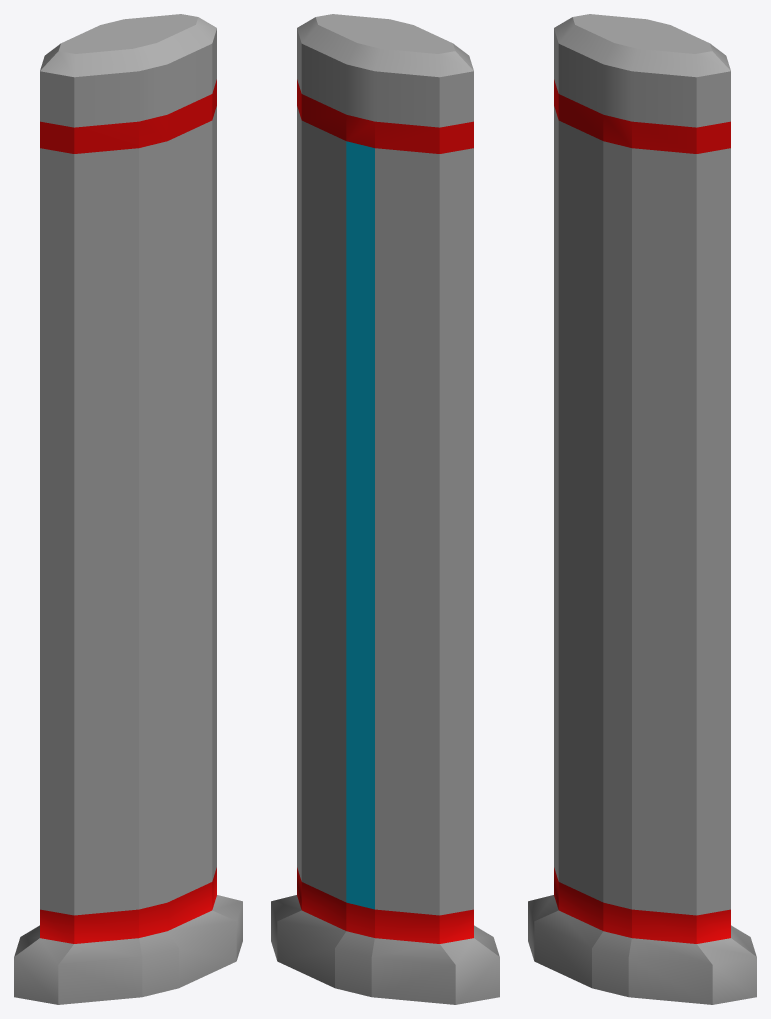
Rendered from energyPylon.fbx.
The picture shows the model from 3 angles, left to right: view 1: azimuth 30°, elevation 25°; view 2: azimuth 150°, elevation 25°; view 3: azimuth 330°, elevation 25°; orthographic projection.
Parts seen in each view (by area): view 1: energyPylon; view 2: energyPylon; view 3: energyPylon.
Part boxes in pixels (x1,y1,x2,y2): energyPylon: (14,14,242,1004); energyPylon: (271,14,499,1004); energyPylon: (528,14,756,1004).
Size of the model in its own units: 0.00968 by 0.0378 by 0.0047.
